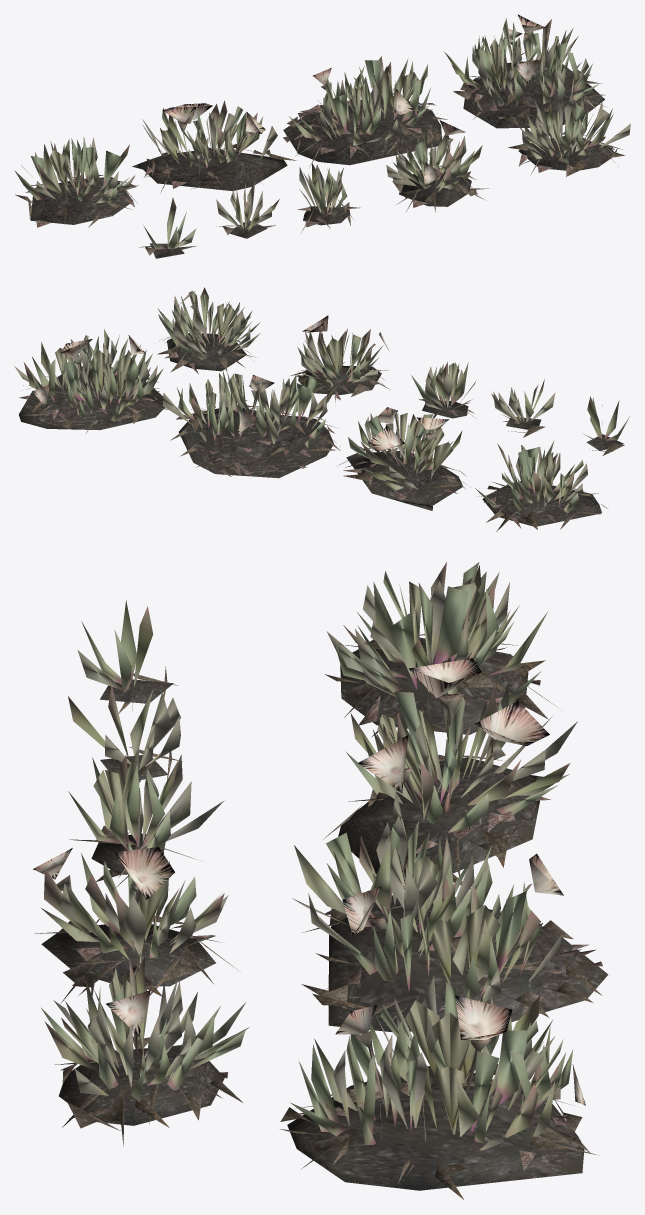
The model's file is ph_cheiridopsis_succulent.glb.
The picture shows the model from 3 angles, top to bottom: view 1: azimuth 30°, elevation 25°; view 2: azimuth 150°, elevation 25°; view 3: azimuth 270°, elevation 25°; orthographic projection. The views are drawn at different scales.
Parts seen in each view (by area): view 1: cheiridopsis_succulent_a_LOD0, cheiridopsis_succulent_d_LOD0; view 2: cheiridopsis_succulent_a_LOD0, cheiridopsis_succulent_d_LOD0; view 3: cheiridopsis_succulent_a_LOD0, cheiridopsis_succulent_d_LOD0.
Part boxes in pixels (<box>): cheiridopsis_succulent_a_LOD0: <box>14,18,630,258</box>; cheiridopsis_succulent_d_LOD0: <box>162,14,595,186</box>; cheiridopsis_succulent_a_LOD0: <box>14,287,629,531</box>; cheiridopsis_succulent_d_LOD0: <box>32,291,448,451</box>; cheiridopsis_succulent_a_LOD0: <box>35,562,609,1199</box>; cheiridopsis_succulent_d_LOD0: <box>33,658,585,1105</box>.
Size of the model in its own units: 2.16 by 0.2559 by 0.9587.
2 materials, 2 textured.
